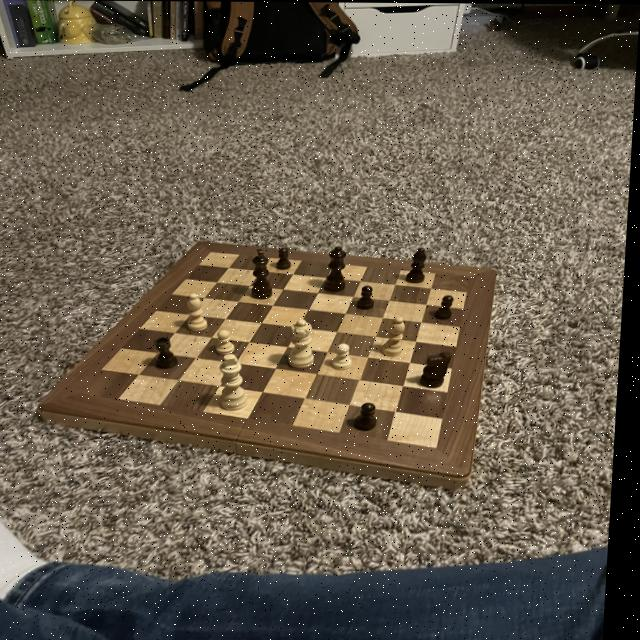bishop: (401, 243, 436, 288)
black-bishop: (249, 247, 280, 302)
black-king: (420, 348, 461, 390)
black-knight: (355, 401, 385, 432), (436, 294, 461, 321), (357, 284, 380, 311), (279, 246, 296, 270)
black-pawn: (323, 242, 354, 295)
black-queen: (155, 335, 186, 372)
black-rook: (287, 319, 322, 370), (380, 314, 412, 357), (186, 292, 215, 334)
white-bishop: (220, 352, 257, 415)
white-knight: (334, 341, 357, 371)
white-pawn: (216, 329, 242, 355)
